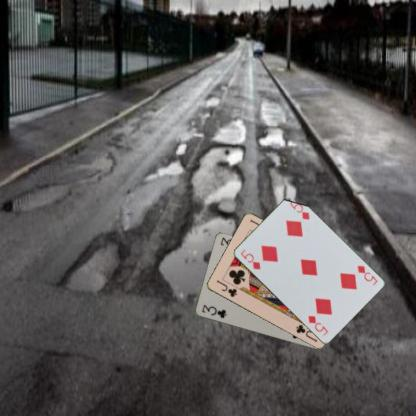3c: (199, 302, 228, 320)
5d: (354, 263, 379, 286), (238, 247, 262, 270)
Jc: (214, 277, 238, 298)
